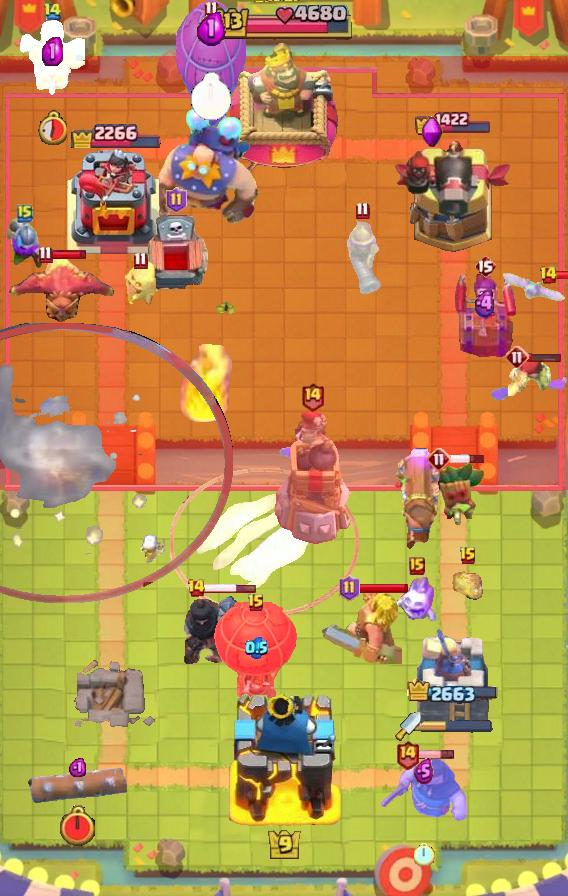bar: (414, 623, 492, 731)
barbarian: (500, 271, 568, 303)
bat-evolution: (122, 259, 158, 309)
battle-healer: (394, 448, 440, 552)
bomb-tower: (341, 210, 383, 298), (7, 217, 43, 269)
cannon-cart: (175, 0, 247, 140), (214, 602, 298, 704)
clock: (213, 5, 355, 43)
electro-spirit: (197, 10, 226, 46), (473, 290, 500, 319), (41, 38, 62, 67), (244, 636, 267, 659), (414, 758, 434, 784), (69, 757, 87, 777)
elixir: (190, 71, 232, 121), (59, 805, 98, 847), (37, 111, 67, 145), (414, 842, 435, 866)
elixir-golem-mid: (141, 214, 211, 300)
emote: (203, 582, 257, 594), (357, 582, 409, 594), (450, 453, 487, 465), (51, 248, 88, 259), (418, 749, 455, 760), (527, 353, 562, 364), (556, 270, 568, 280)
goblin-barrel: (428, 461, 486, 527)
goblin-hut: (320, 586, 402, 664)
heal-spirit: (137, 533, 165, 567)
ice-golem: (508, 354, 554, 396)
ice-spirit-evolution: (450, 571, 486, 603)
ice-wizard: (170, 468, 359, 617)
inferno-dragon: (180, 591, 240, 667)
king-tower: (226, 688, 342, 826), (230, 43, 338, 181)
king-tower-bar: (421, 719, 493, 733)
little-prince: (149, 105, 261, 225)
mini-pekka: (19, 14, 85, 100)
minion: (27, 767, 127, 803)
mirror: (396, 574, 438, 624)
mother-witch: (1, 255, 117, 327)
queen-tower: (64, 146, 164, 256)
royal-ghost: (0, 323, 232, 603)
royal-hog: (379, 754, 469, 824)
selected: (67, 116, 160, 147), (408, 679, 501, 707), (414, 112, 494, 137)
skeleton-king-bar: (454, 271, 516, 357)
skeleton-king-skill: (421, 116, 443, 150)
text: (300, 380, 325, 411), (396, 739, 421, 770), (505, 345, 529, 369), (427, 447, 451, 471), (165, 187, 186, 213), (339, 575, 360, 601), (474, 254, 496, 278), (539, 265, 558, 285), (186, 578, 205, 598), (459, 546, 477, 566), (247, 593, 265, 613), (42, 3, 61, 21), (17, 203, 33, 223), (409, 557, 425, 575), (204, 1, 219, 20), (133, 251, 147, 270), (355, 201, 369, 219), (39, 245, 53, 263)
tower-bar: (392, 138, 514, 256)
valkyrie: (174, 341, 232, 427)
zappy: (269, 412, 356, 548)
